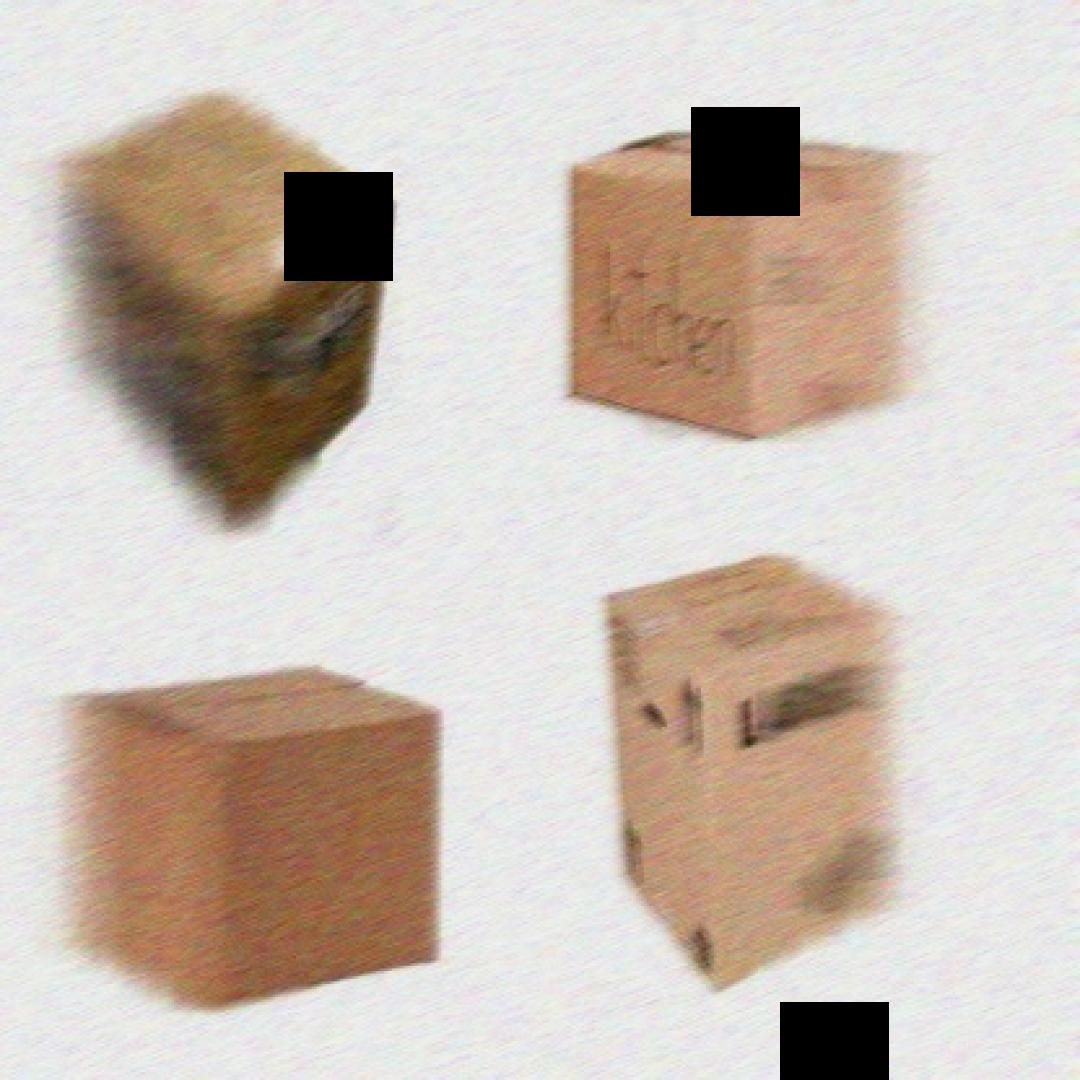package: (73, 86, 392, 534), (610, 550, 895, 984), (86, 670, 442, 1010), (576, 137, 908, 428)
